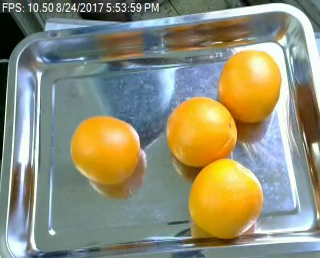Orange: (187, 158, 263, 238), (166, 97, 238, 168), (71, 115, 140, 184), (217, 48, 280, 123)
